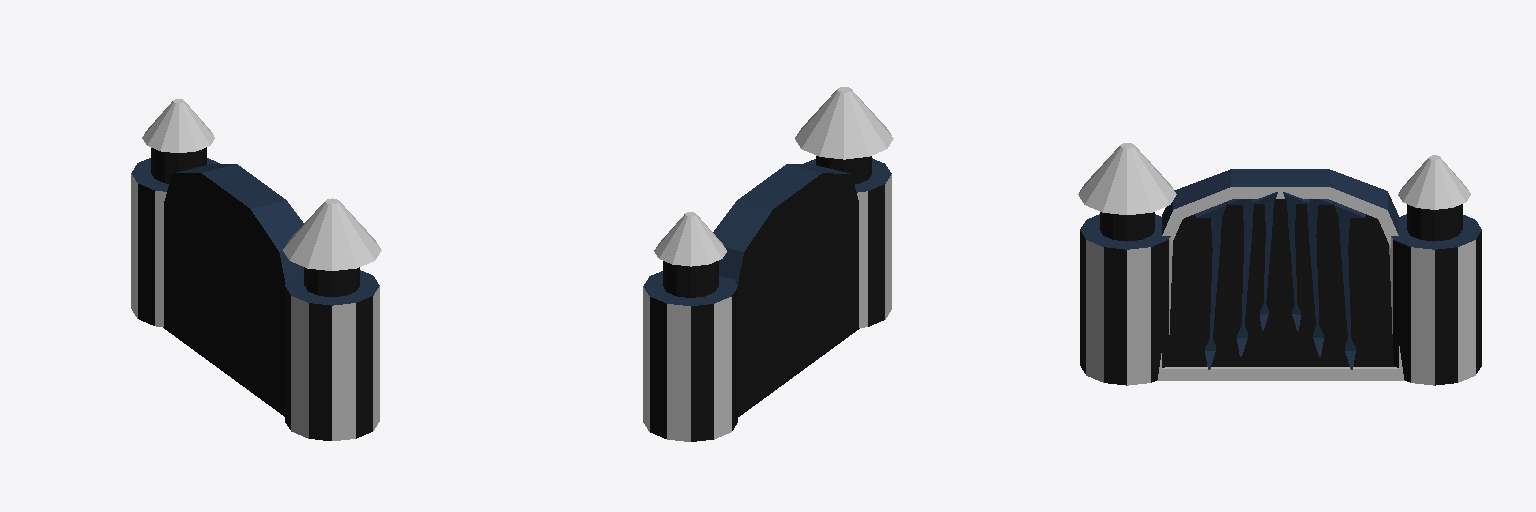
The model's file is Gate_BIG.obj.
3 renders of one model, left to right at view 1: azimuth 30°, elevation 25°; view 2: azimuth 150°, elevation 25°; view 3: azimuth 270°, elevation 25°, orthographic.
Visible parts, largest first — view 1: Cube.001; view 2: Cube.001; view 3: Cube.001, Plane.
Part boxes in pixels (left/top/right/bottom): Cube.001: left=131, top=99, right=381, bottom=440; Cube.001: left=643, top=87, right=893, bottom=441; Cube.001: left=1078, top=143, right=1481, bottom=385; Plane: left=1195, top=192, right=1365, bottom=369.
Size of the model in its own units: 5.9 by 14.51 by 24.08.